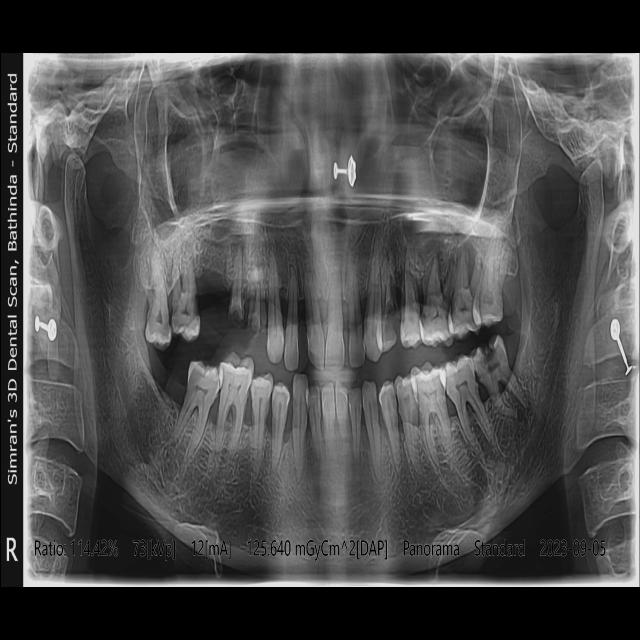Caries: (385, 295, 398, 342), (478, 341, 496, 365), (190, 291, 199, 320), (474, 372, 479, 391), (475, 370, 481, 382)
Mandibular Canal: (419, 306, 569, 529)
Missing teeth: (198, 269, 229, 338), (154, 346, 187, 402)
Periapical lesion: (513, 401, 524, 425), (434, 250, 443, 278), (524, 394, 533, 417), (289, 263, 297, 283), (448, 253, 456, 268)
Root Piece: (229, 247, 244, 320), (248, 266, 260, 333)
